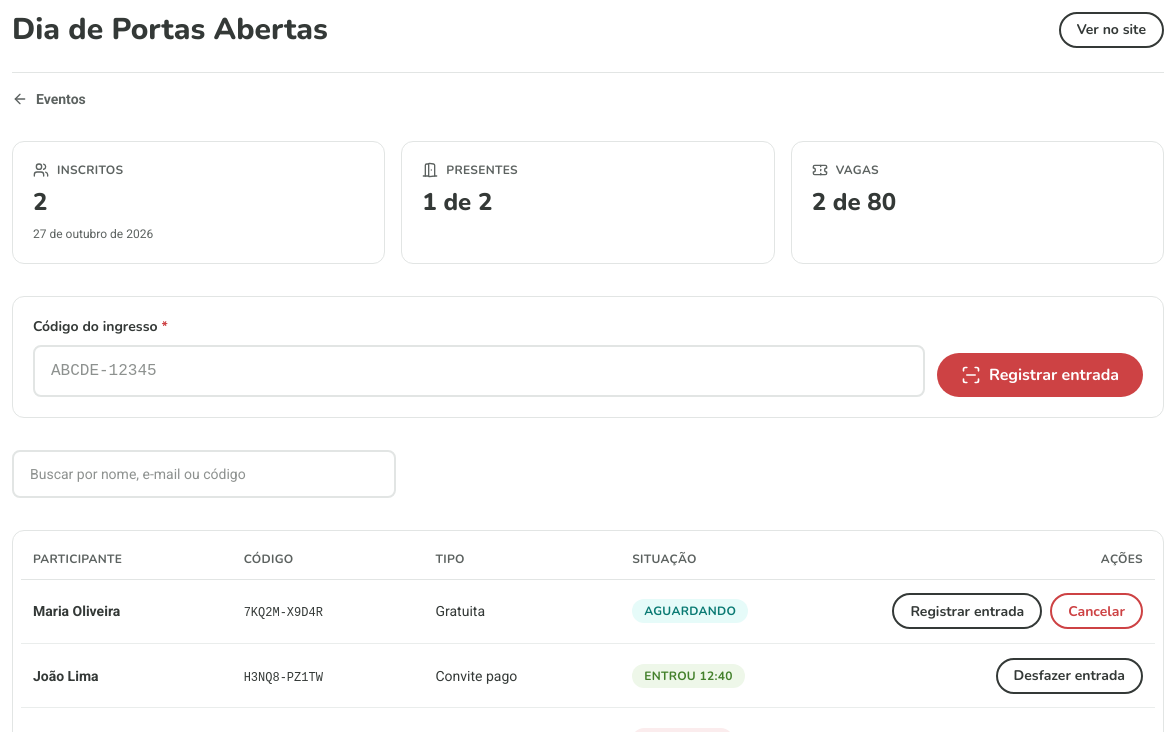
lista de presença e check-in › registra a entrada pelo endereço que o leitor de QR digita
This screenshot has width=1164, height=732.
Expected: the heading "Dia de Portas Abertas" is shown, top-left (12, 12), bottom-right (328, 48)
Click the field labelled "Código do ingresso*" at (479, 370), box top-left (33, 344), bottom-right (925, 396)
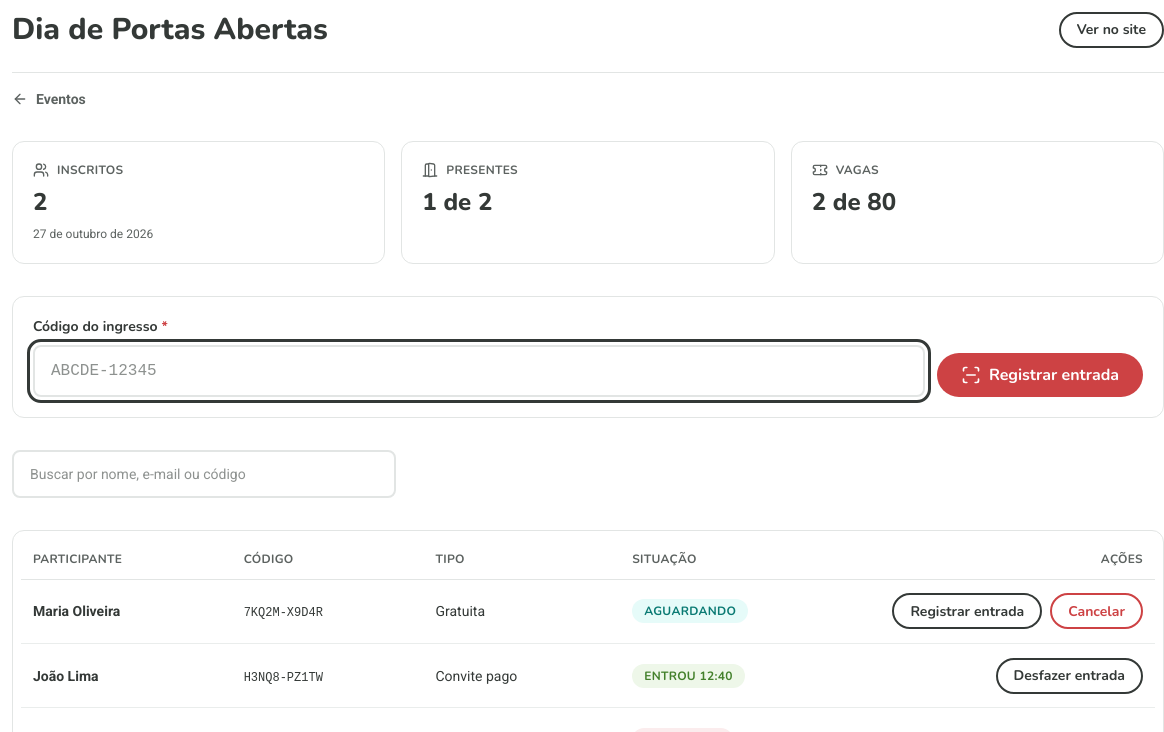
Type keys "http://localhost:5173/inscricao/7kq2m-x9d4r"
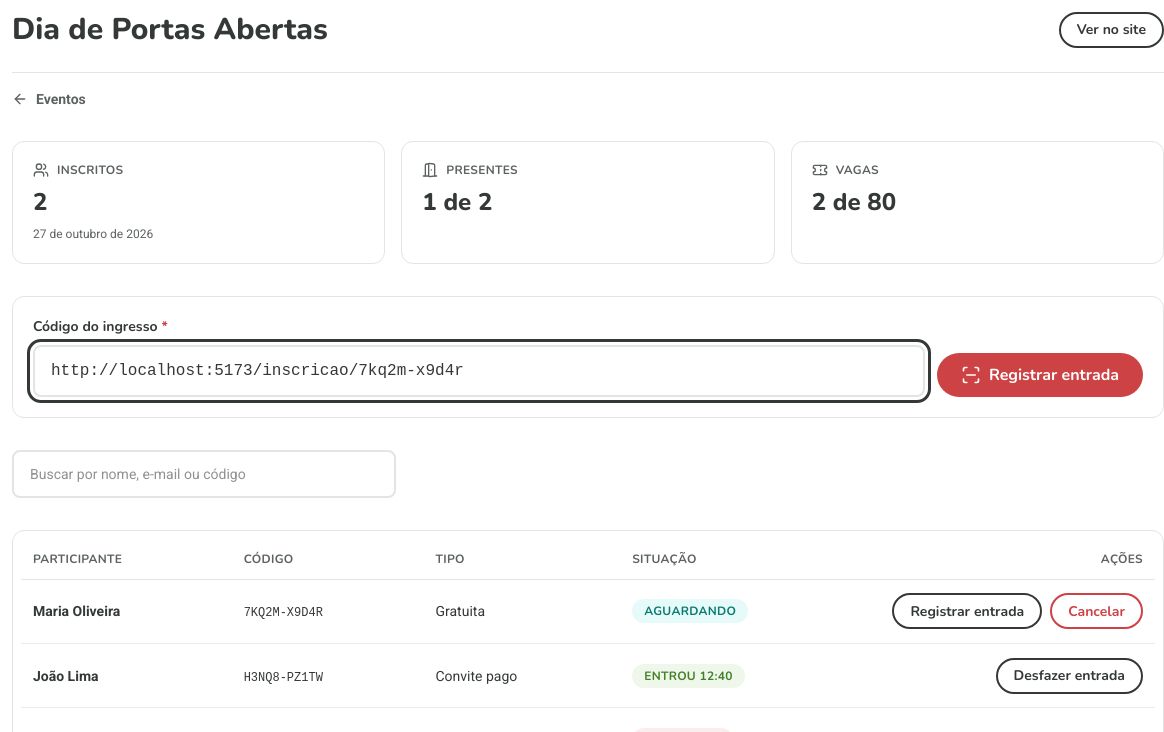
Press Enter
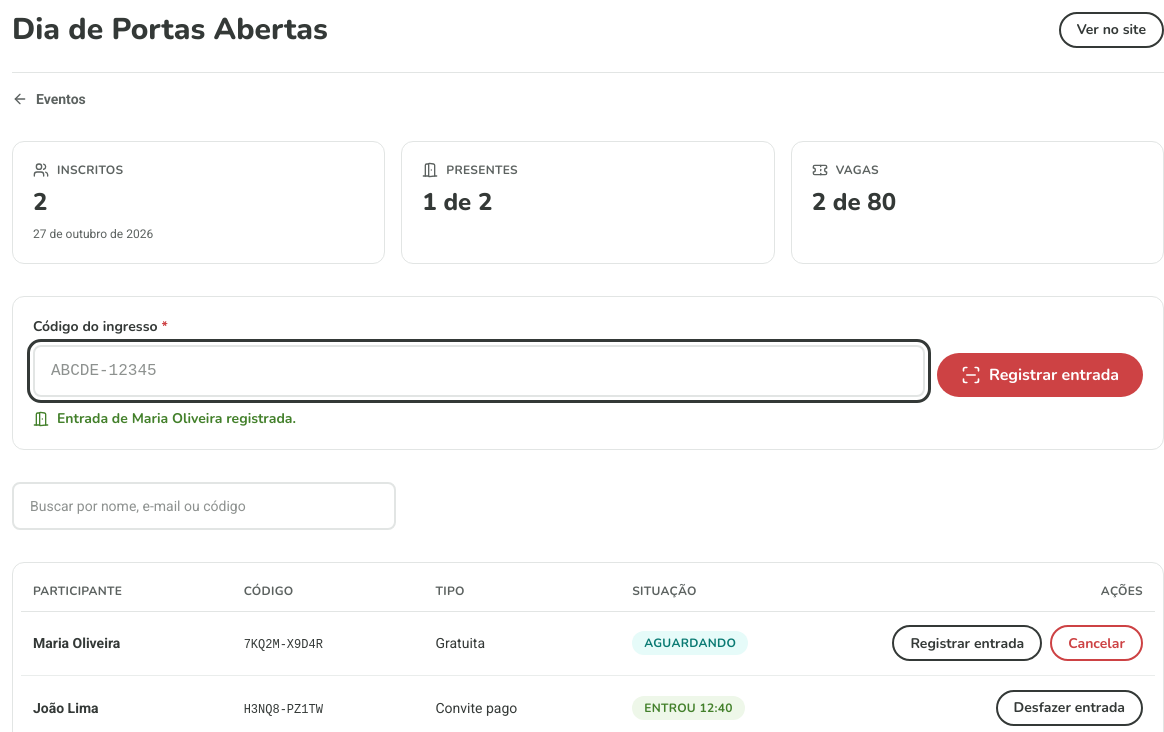
Expected: the text "Entrada de Maria Oliveira registrada." is shown, top-left (33, 408), bottom-right (296, 428)
Expected: the field labelled "Código do ingresso*" is empty, top-left (33, 344), bottom-right (925, 396)
